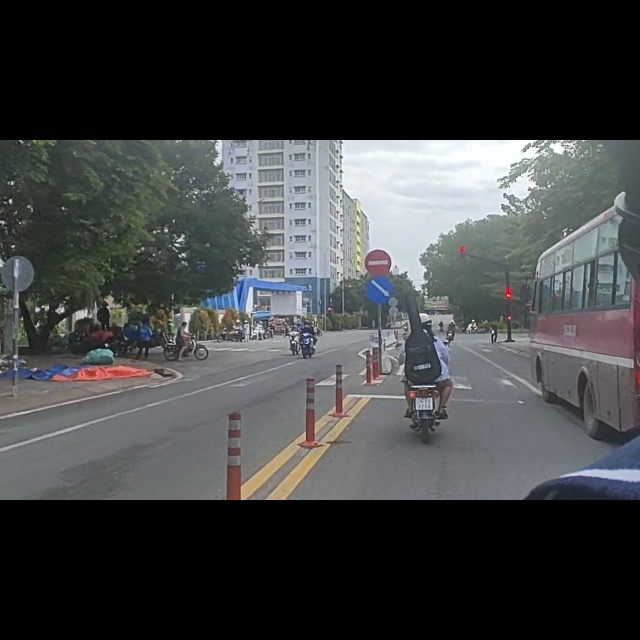bien_hieu_lenh: (364, 192, 394, 243), (367, 241, 391, 288)
